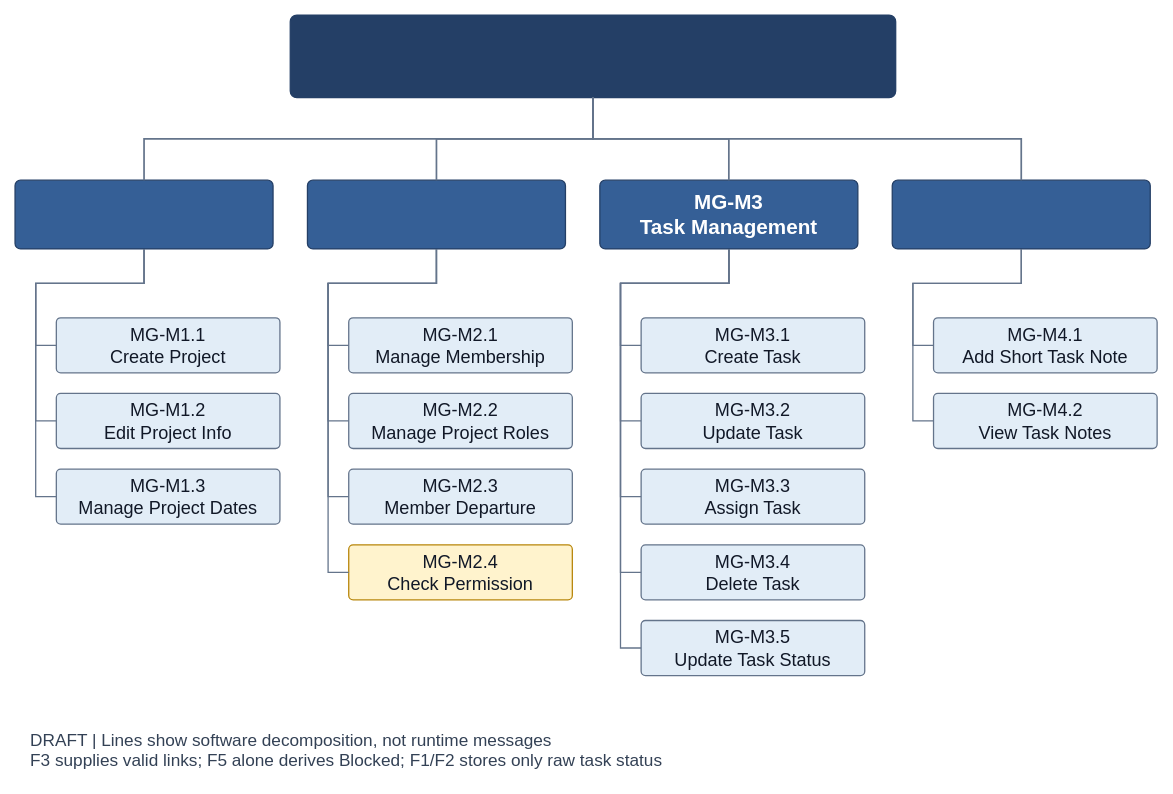
The diagram is 1173 pixels wide and 794 high, and some of its shapes have lost their labels. The shapes that lost their labels are listed below. From the top down, each one's centre as x and y in pixels, then its label:
At (x=592, y=56): "MG-M0 Management Facade Project and Task Management".
At (x=143, y=214): "MG-M1 Project Management".
At (x=436, y=214): "MG-M2 Membership and Permission Policy".
At (x=1021, y=214): "MG-M4 Progress Notes".
